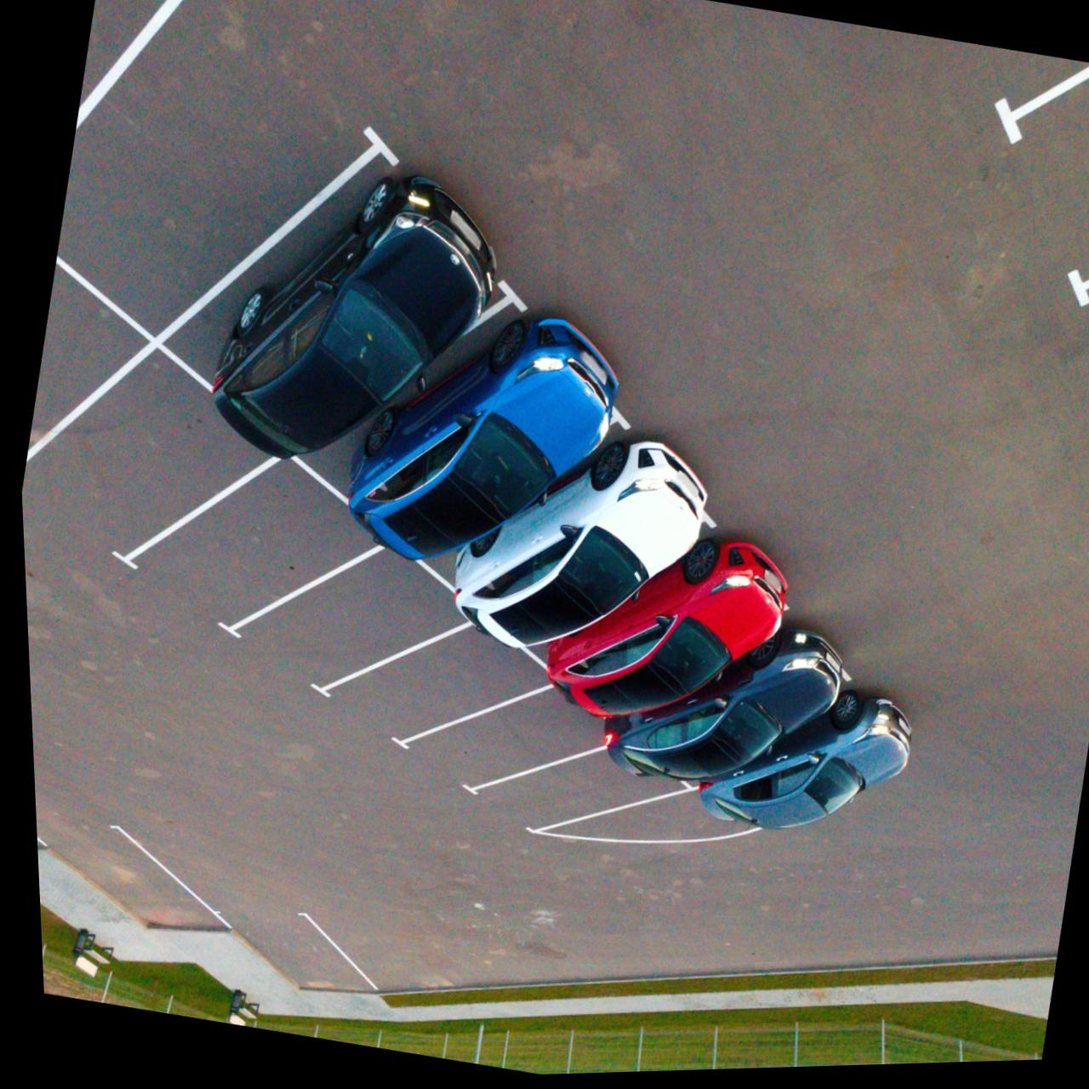cars: (199, 146, 517, 495), (332, 269, 608, 587), (446, 383, 719, 678), (547, 502, 794, 756), (626, 577, 875, 808), (726, 646, 923, 848)
empty: (35, 0, 385, 364), (15, 338, 268, 586), (115, 443, 389, 660), (223, 538, 472, 725), (320, 608, 552, 787), (423, 659, 595, 828), (496, 723, 673, 886)
